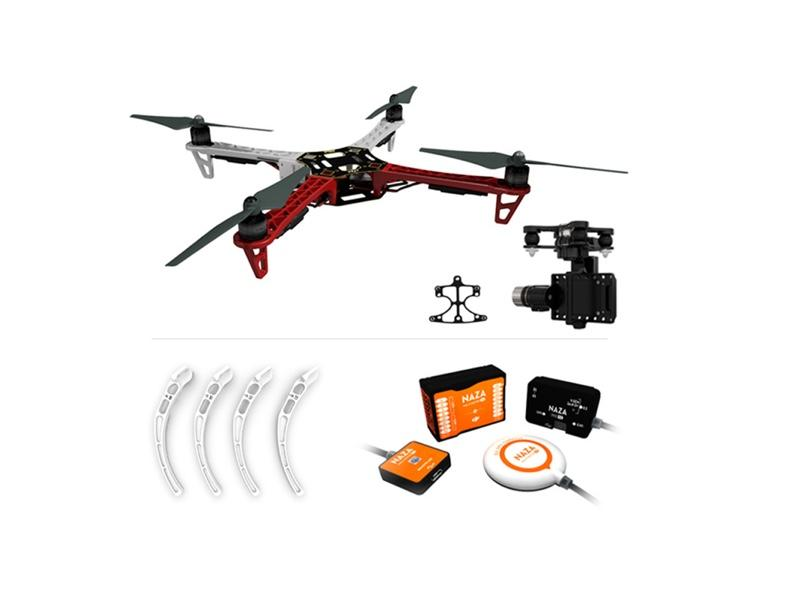drone: (127, 84, 633, 292)
